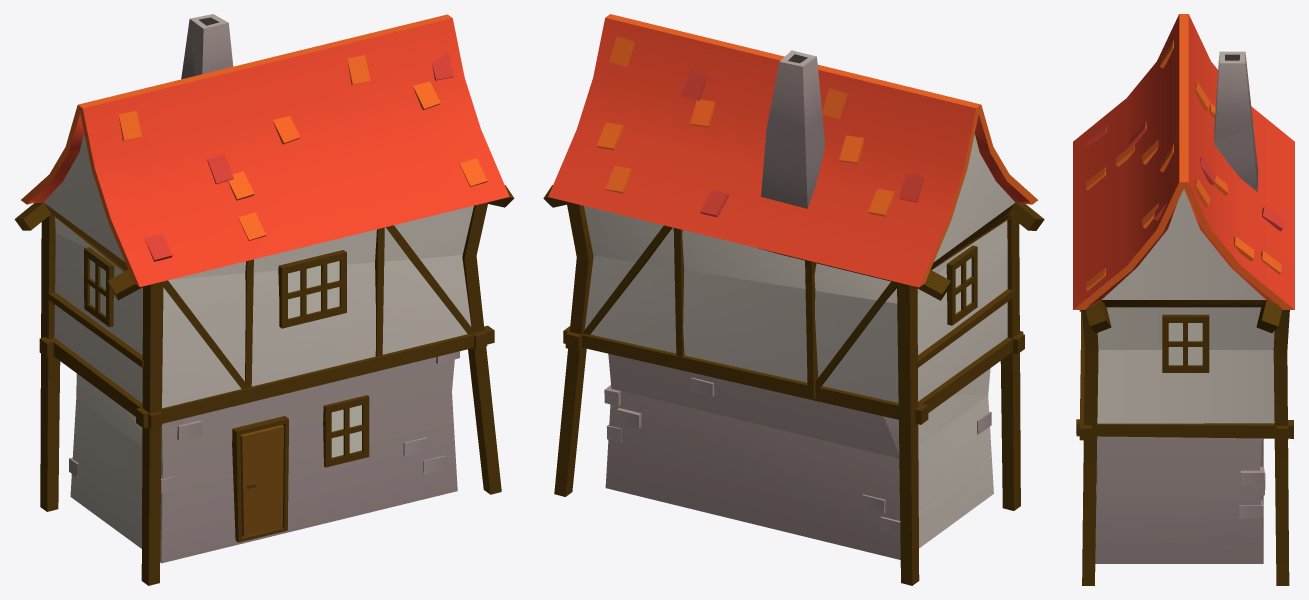
The model's file is House_1.fbx.
3 views of the same model, side by side, from view 1: azimuth 30°, elevation 25°; view 2: azimuth 150°, elevation 25°; view 3: azimuth 270°, elevation 25° (orthographic). The views are drawn at different scales.
Visible parts, largest first — view 1: House_1; view 2: House_1; view 3: House_1.
Boxes of the visible parts, x1,y1,x2,y2 form: House_1: (14, 14, 514, 585); House_1: (543, 14, 1044, 585); House_1: (1073, 14, 1294, 585).
Size of the model in its own units: 2.27 by 2.57 by 1.18.
